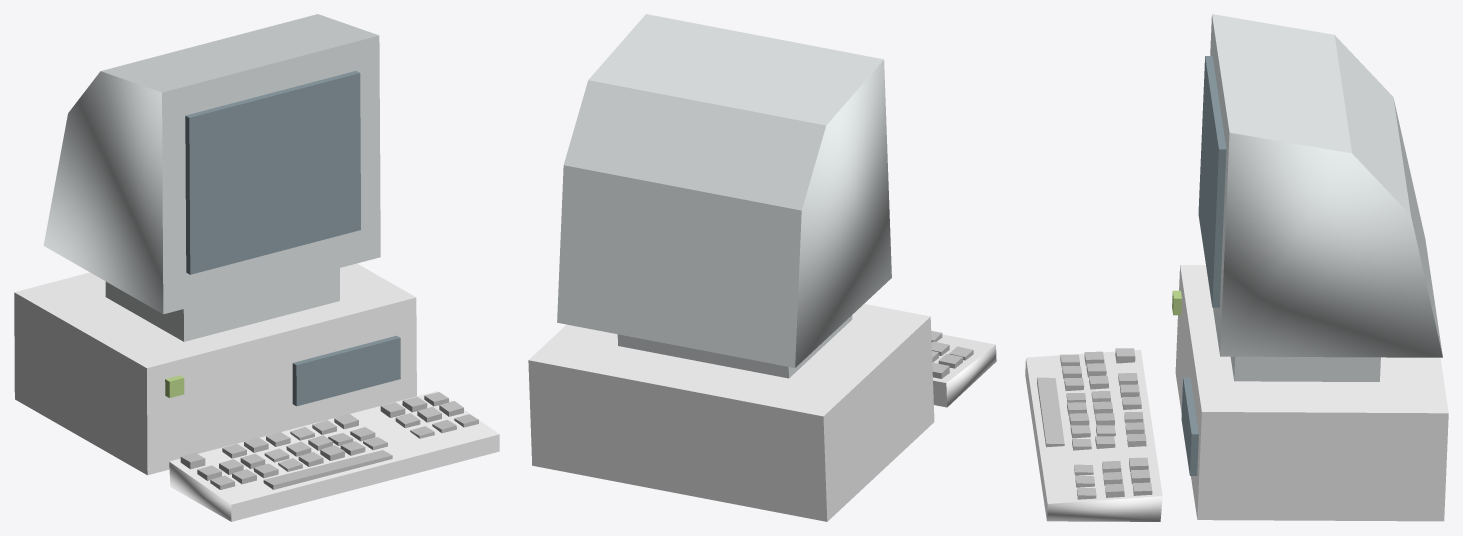
Rendered from computer.dae.
The picture shows the model from 3 angles, left to right: view 1: azimuth 30°, elevation 25°; view 2: azimuth 150°, elevation 25°; view 3: azimuth 270°, elevation 25°; orthographic projection. The views are drawn at different scales.
Parts seen in each view (by area): view 1: mesh35764393; view 2: mesh35764393; view 3: mesh35764393.
Boxes of the visible parts, bbox=[...] form: mesh35764393: bbox=[14, 14, 499, 521]; mesh35764393: bbox=[528, 14, 996, 521]; mesh35764393: bbox=[1025, 14, 1448, 521].
Bounding box in the file's own units: 2.83 × 3.29 × 3.33.
